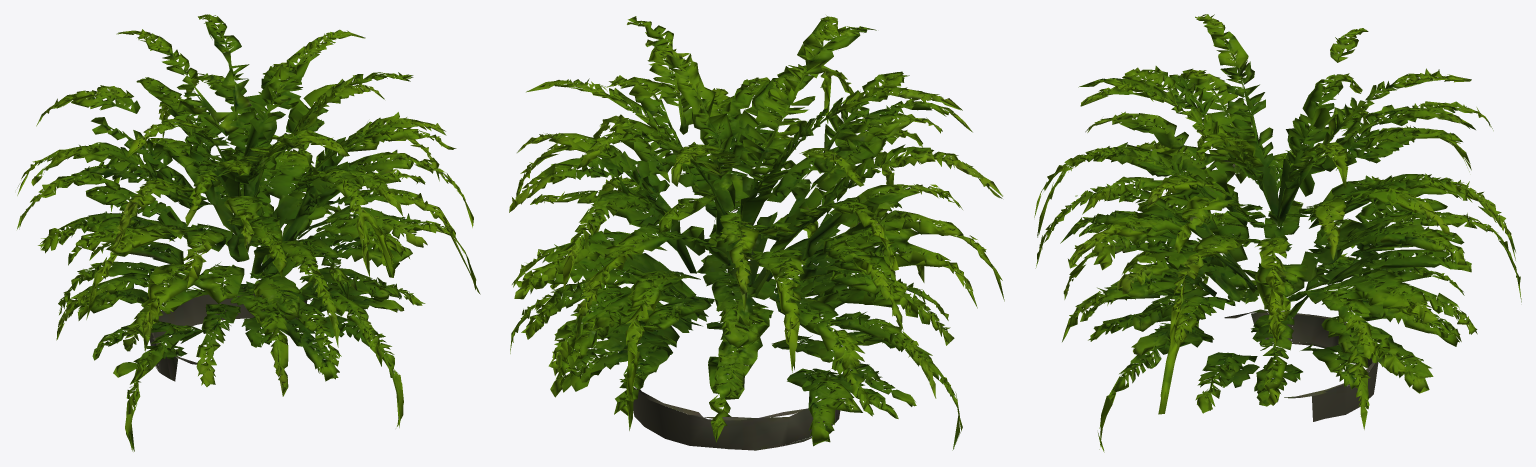
Rendered from fern.glb.
3 renders of one model, left to right at view 1: azimuth 30°, elevation 25°; view 2: azimuth 150°, elevation 25°; view 3: azimuth 270°, elevation 25°, orthographic. The views are drawn at different scales.
Visible parts, largest first — view 1: FernHQ; view 2: FernHQ; view 3: FernHQ.
Boxes of the visible parts, x1,y1,x2,y2 form: FernHQ: (17, 14, 480, 451); FernHQ: (509, 15, 1004, 450); FernHQ: (1034, 14, 1521, 452).
Bounding box in the file's own units: 0.9621 × 0.7437 × 0.9786.
Materials: 1 (1 with a texture image).
